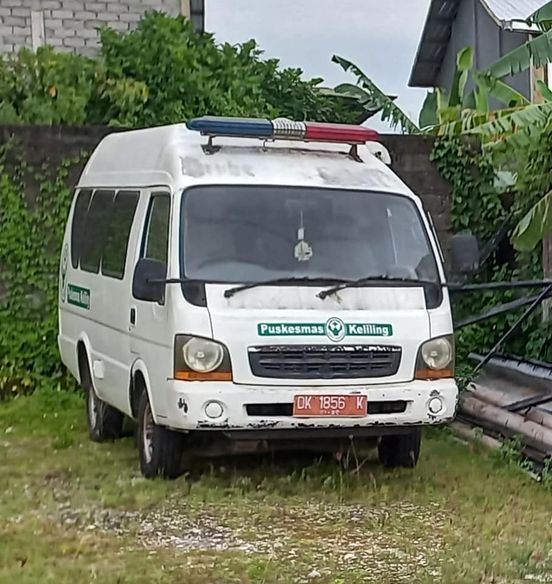plate: (290, 388, 370, 425)
